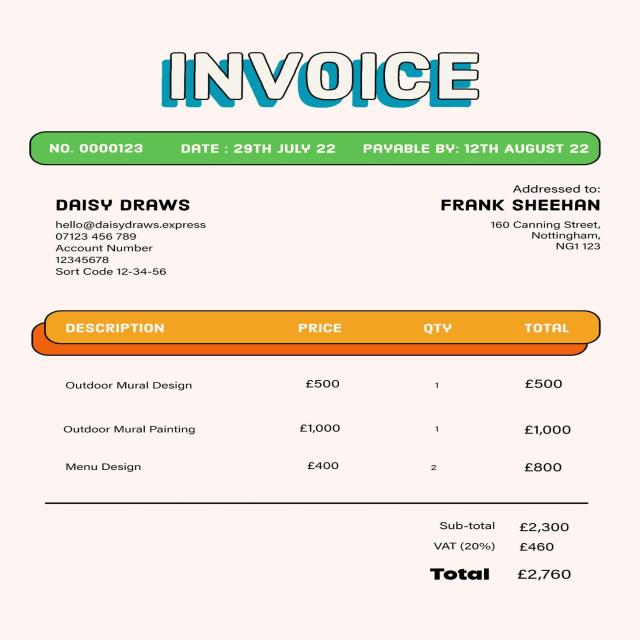paragraph: (155, 43, 487, 118), (23, 128, 597, 166), (39, 186, 214, 284), (425, 172, 626, 256), (409, 512, 585, 598)
table: (27, 311, 598, 480)
